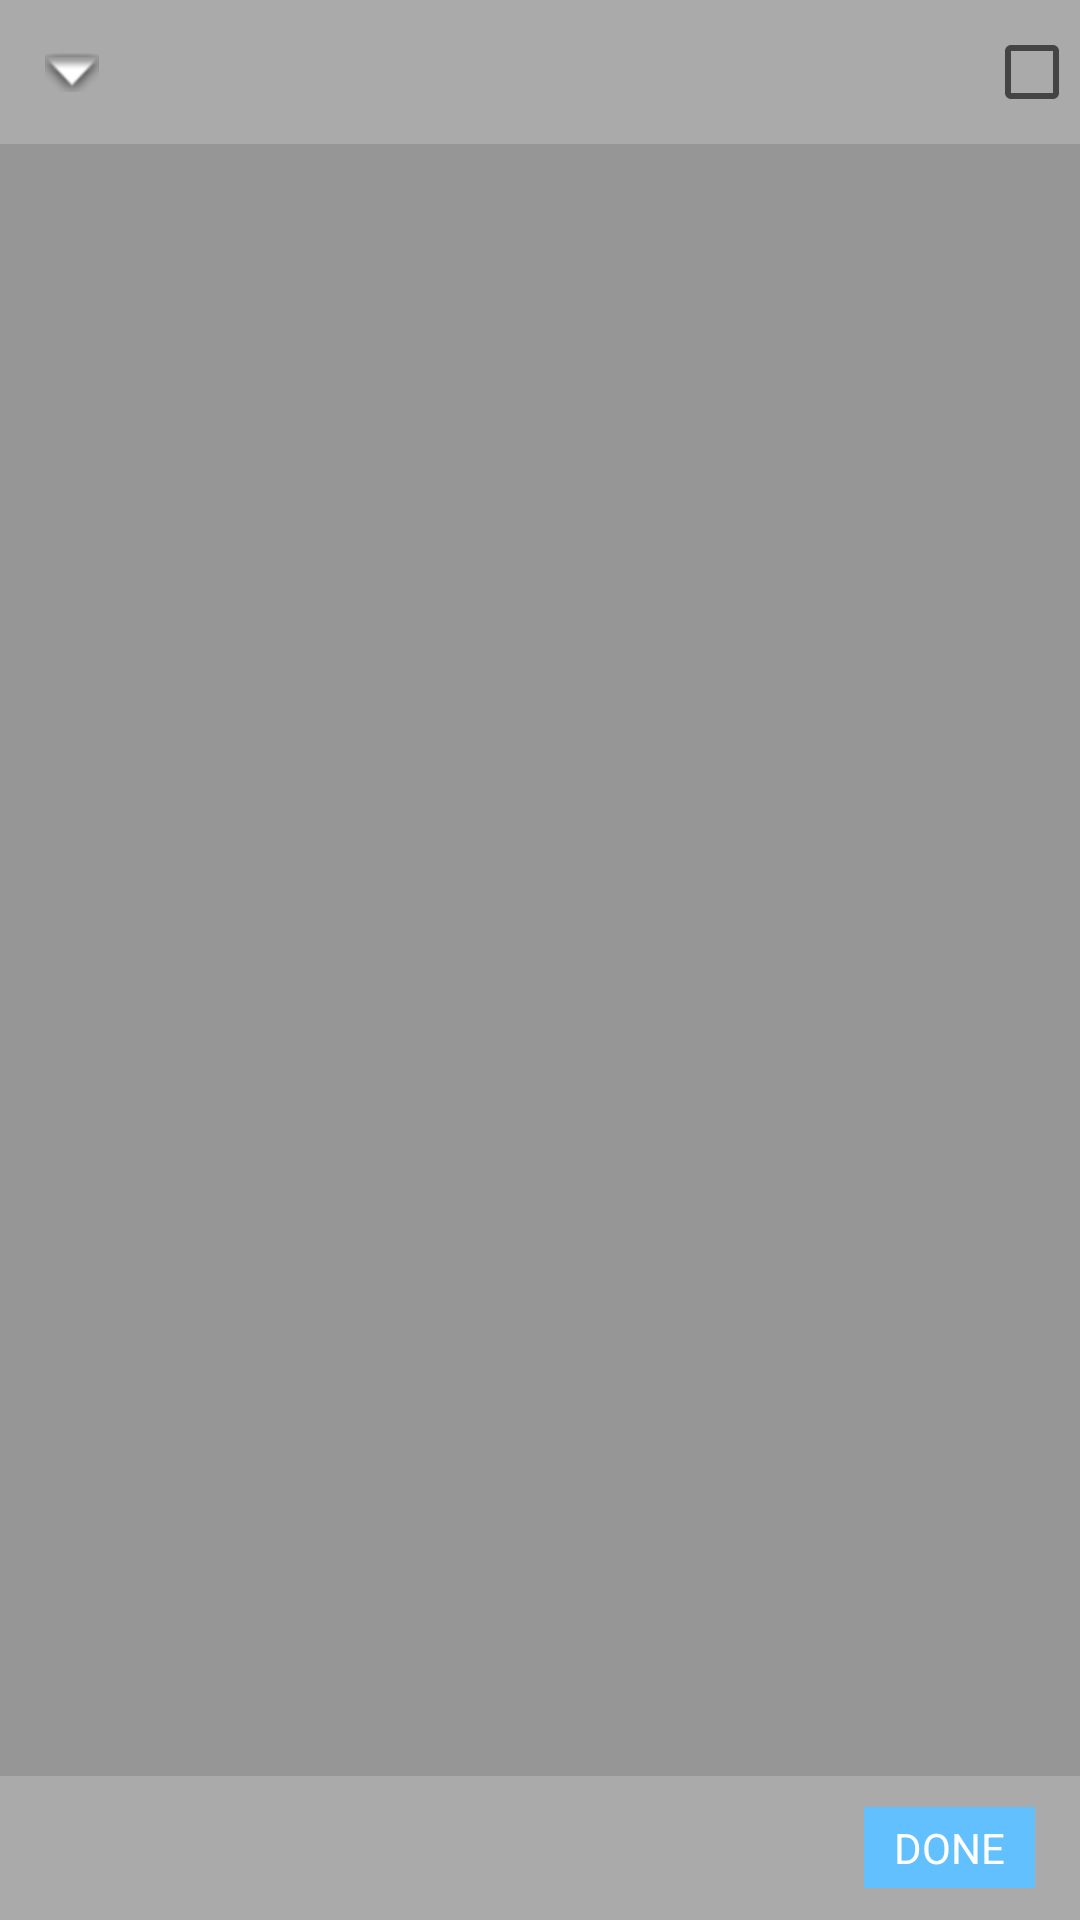

Icons on this 1080w x 1920h Android screen, each with its box as bbox=(x1, y1, x2, y2):
arrow down float: bbox=(45, 55, 99, 89)
